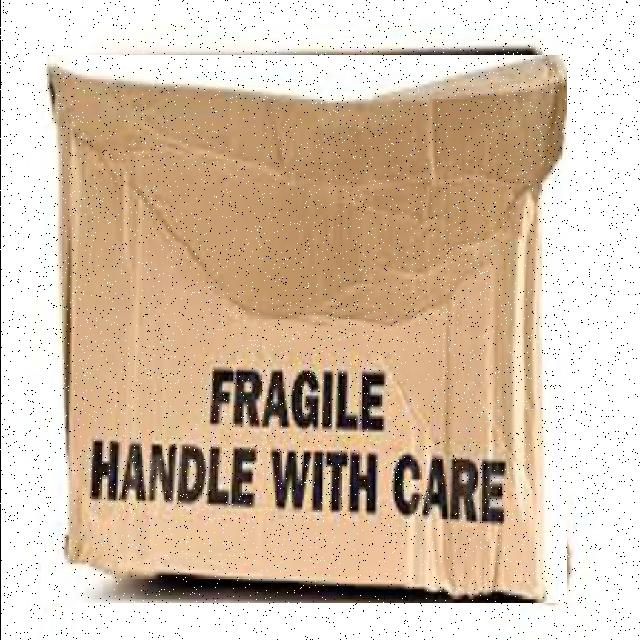defect: (40, 55, 566, 603)
